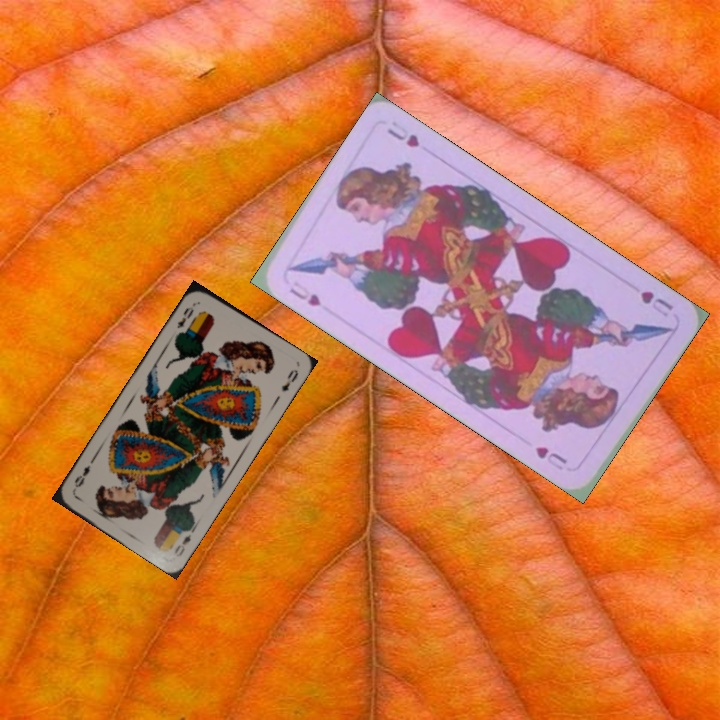EO: (170, 522, 198, 559), (173, 299, 198, 331)
HU: (636, 286, 676, 320), (285, 277, 323, 309)
